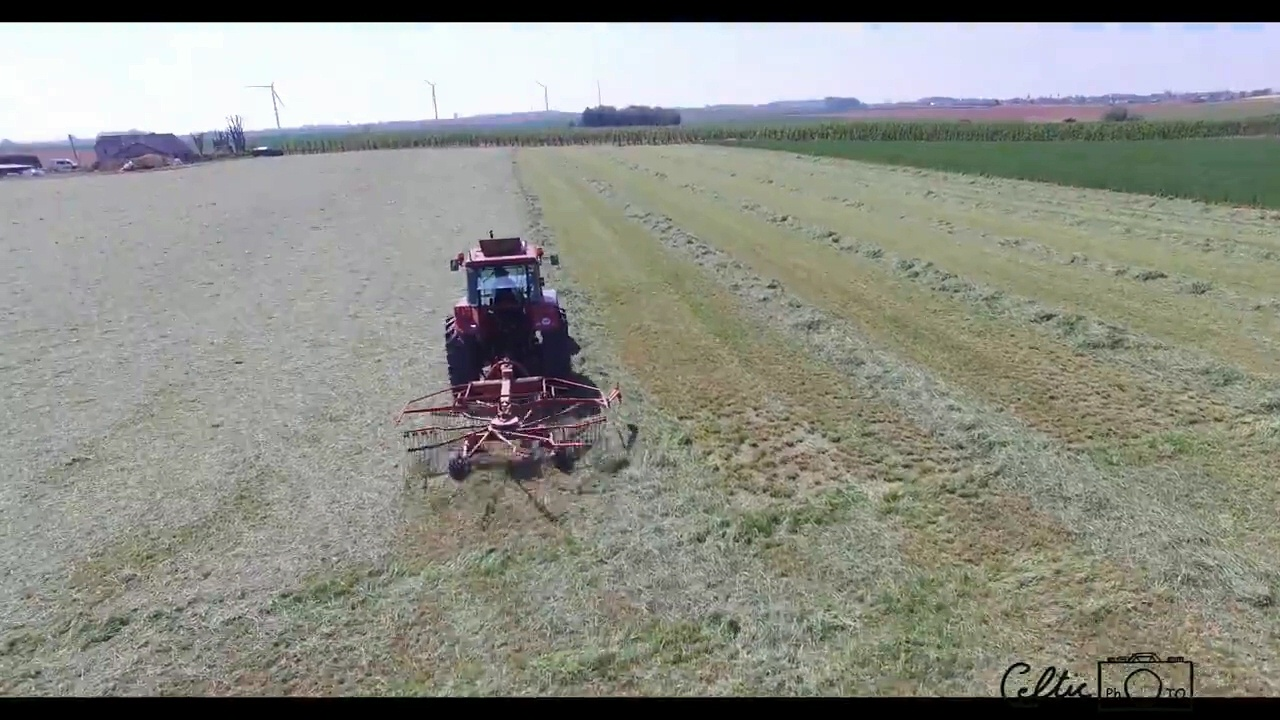traktor: (439, 228, 576, 380)
